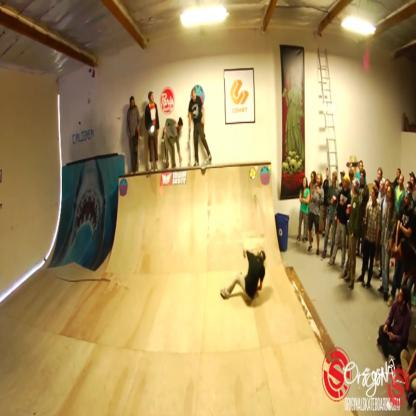Fall_Down: (219, 246, 270, 304)
